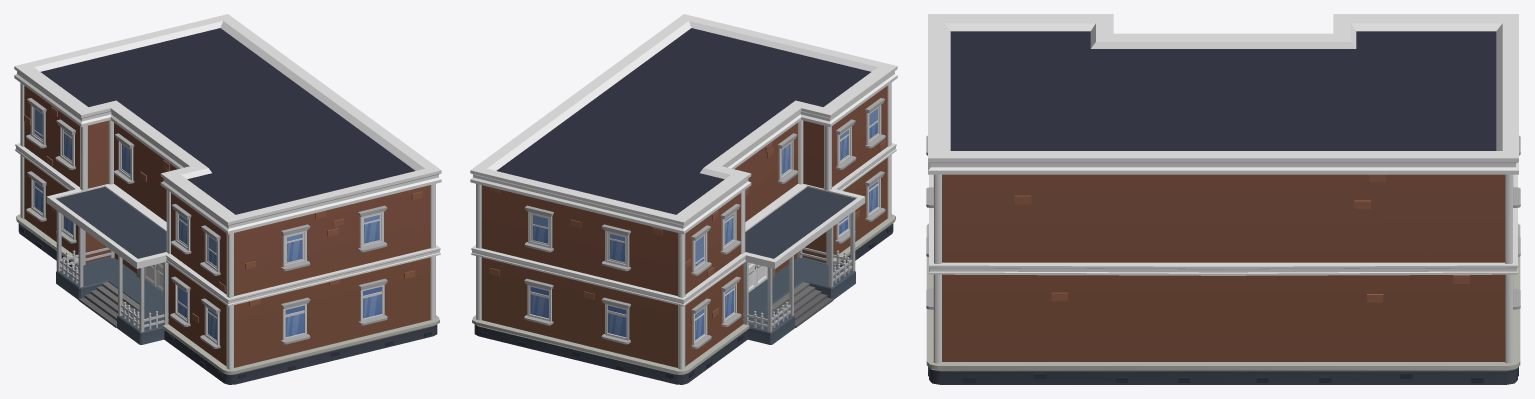
File: Building_5_1_I.fbx
3 views of the same model, side by side, from view 1: azimuth 30°, elevation 25°; view 2: azimuth 150°, elevation 25°; view 3: azimuth 270°, elevation 25° (orthographic). The views are drawn at different scales.
Parts seen in each view (by area): view 1: Building_5_1_I; view 2: Building_5_1_I; view 3: Building_5_1_I.
Part boxes in pixels (x1,y1,x2,y2): Building_5_1_I: (14, 14, 441, 384); Building_5_1_I: (470, 14, 897, 384); Building_5_1_I: (926, 14, 1520, 384).
Bounding box in the file's own units: 1251 × 804 × 1908.
